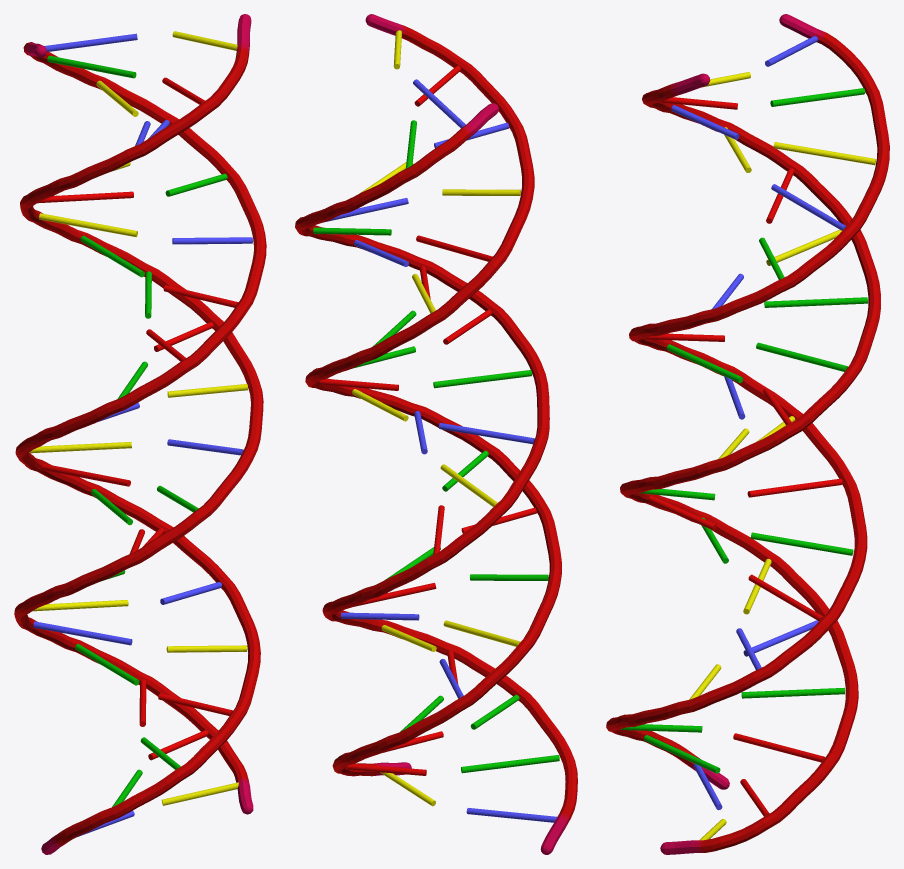
Rendered from B-DNA.glb.
3 renders of one model, left to right at view 1: azimuth 30°, elevation 25°; view 2: azimuth 150°, elevation 25°; view 3: azimuth 270°, elevation 25°, orthographic. The views are drawn at different scales.
Parts seen in each view (by area): view 1: Shape_IndexedFaceSet, Shape_Cylinder.035, Shape_Cylinder.025, Shape_Cylinder.009, Shape_Cylinder.019, Shape_Cylinder.018, Shape_Cylinder.008, Shape_Cylinder.034, Shape_Cylinder.024, Shape_Cylinder.004, Shape_Cylinder.014, Shape_Cylinder.029 (+6 smaller); view 2: Shape_IndexedFaceSet, Shape_Cylinder.011, Shape_Cylinder.001, Shape_Cylinder.010, Shape_Cylinder, Shape_Cylinder.023, Shape_Cylinder.033, Shape_Cylinder.005, Shape_Cylinder.015, Shape_Cylinder.038, Shape_Cylinder.024; view 3: Shape_IndexedFaceSet, Shape_Cylinder.007, Shape_Cylinder.017, Shape_Cylinder.026, Shape_Cylinder.036, Shape_Cylinder.018, Shape_Cylinder.008, Shape_Cylinder.027, Shape_Cylinder.037, Shape_Cylinder.016, Shape_Cylinder.006, Shape_Cylinder.011 (+1 smaller).
Boxes of the visible parts, x1,y1,x2,y2 form: Shape_IndexedFaceSet: [14, 14, 266, 854]; Shape_Cylinder.035: [33, 621, 132, 645]; Shape_Cylinder.025: [39, 213, 137, 237]; Shape_Cylinder.009: [29, 442, 131, 453]; Shape_Cylinder.019: [44, 33, 137, 51]; Shape_Cylinder.018: [47, 55, 136, 78]; Shape_Cylinder.008: [42, 464, 130, 486]; Shape_Cylinder.034: [32, 600, 128, 611]; Shape_Cylinder.024: [37, 191, 133, 203]; Shape_Cylinder.004: [166, 645, 247, 652]; Shape_Cylinder.014: [172, 237, 252, 244]; Shape_Cylinder.029: [167, 384, 247, 397]; Shape_IndexedFaceSet: [295, 14, 577, 854]; Shape_Cylinder.011: [433, 370, 531, 388]; Shape_Cylinder.001: [461, 755, 559, 773]; Shape_Cylinder.010: [439, 423, 534, 444]; Shape_Cylinder: [466, 808, 556, 822]; Shape_Cylinder.023: [442, 189, 521, 195]; Shape_Cylinder.033: [469, 574, 548, 580]; Shape_Cylinder.005: [341, 612, 419, 620]; Shape_Cylinder.015: [313, 227, 391, 235]; Shape_Cylinder.038: [347, 764, 426, 775]; Shape_Cylinder.024: [416, 235, 492, 261]; Shape_IndexedFaceSet: [606, 14, 889, 854]; Shape_Cylinder.007: [750, 532, 853, 555]; Shape_Cylinder.017: [773, 142, 875, 165]; Shape_Cylinder.026: [764, 297, 867, 307]; Shape_Cylinder.036: [741, 687, 844, 698]; Shape_Cylinder.018: [770, 88, 865, 106]; Shape_Cylinder.008: [747, 478, 842, 497]; Shape_Cylinder.027: [756, 342, 847, 371]; Shape_Cylinder.037: [733, 733, 824, 762]; Shape_Cylinder.016: [771, 184, 846, 230]; Shape_Cylinder.006: [748, 574, 823, 620]; Shape_Cylinder.011: [666, 344, 742, 382].
Bounding box in the file's own units: 20.41 × 68.26 × 21.74.
